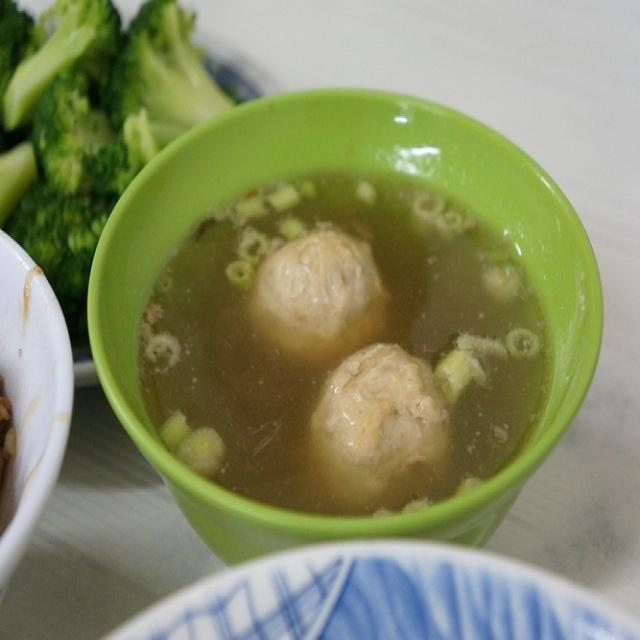熟制海鲜: (87, 74, 584, 588)
